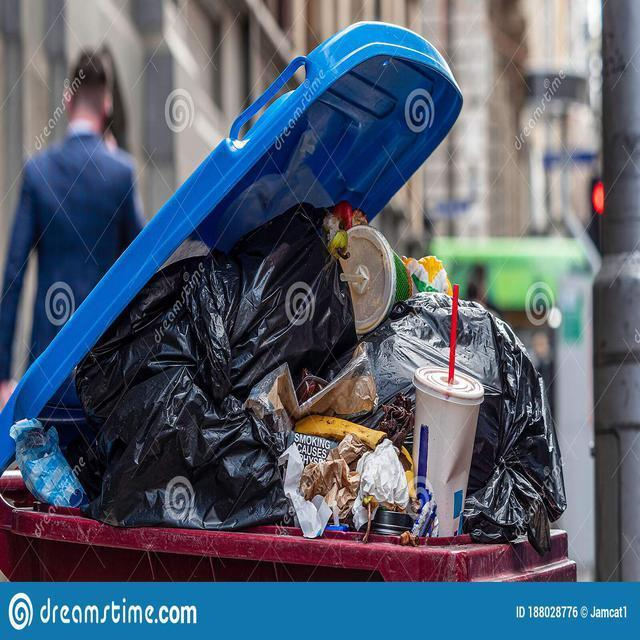garbage: (100, 247, 518, 538)
